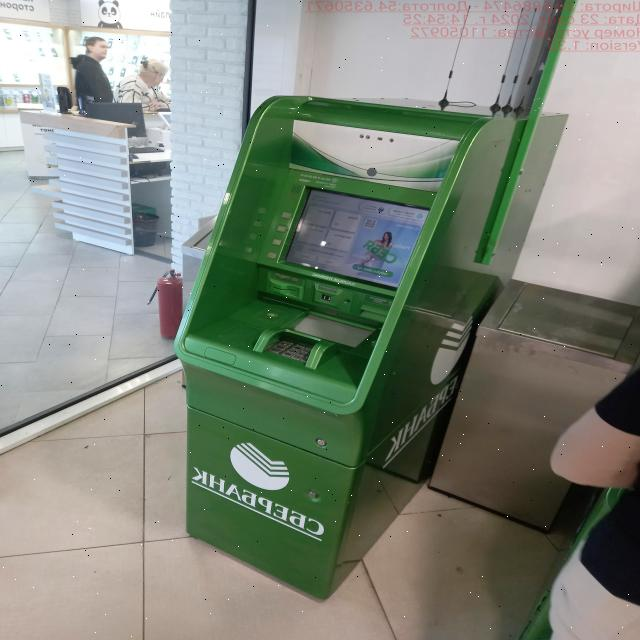bank: (172, 95, 568, 601)
